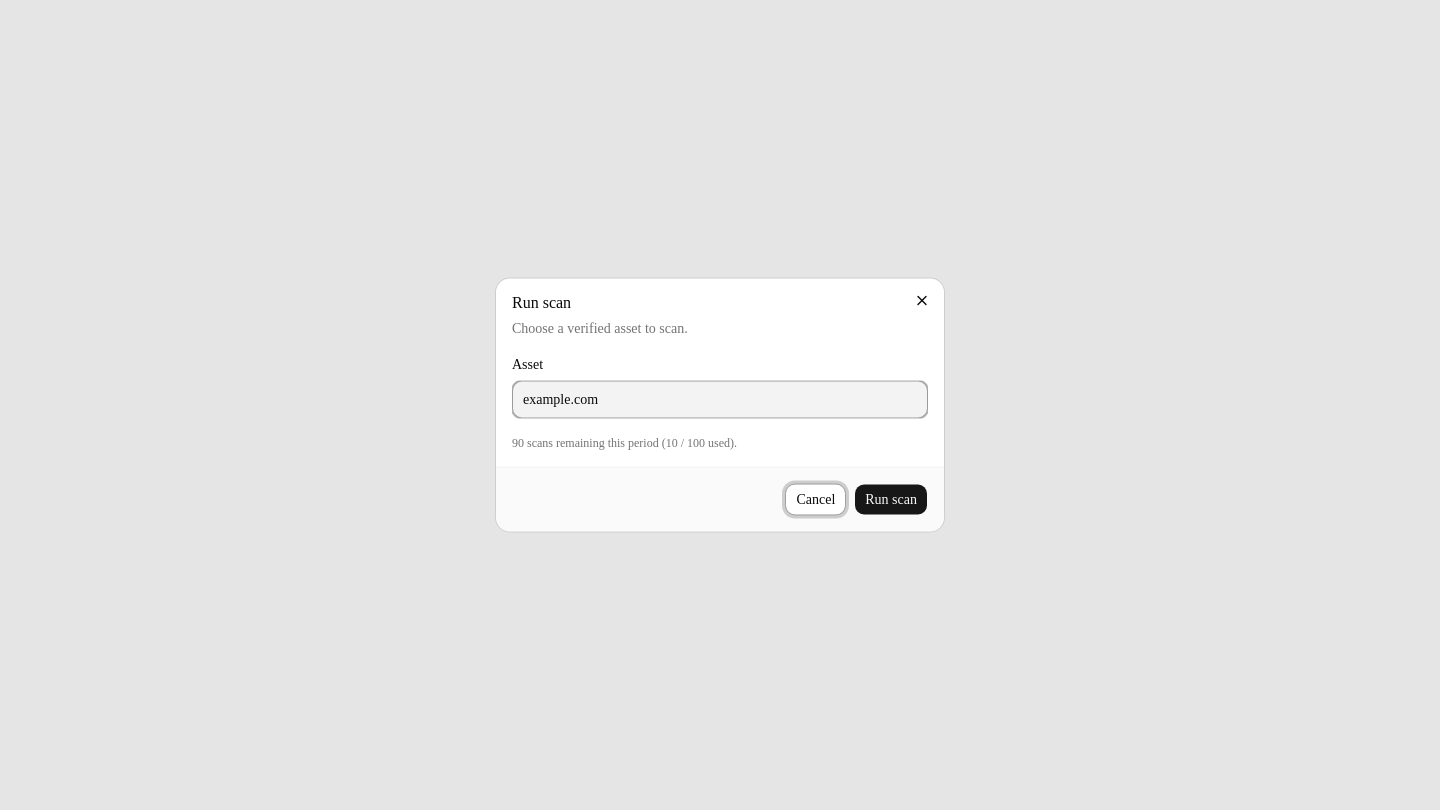
Test: RunScanDialog › a failed scan creation (e.g. quota race) is surfaced inline, not as a raw exception
Click the button "Run scan" at (891, 500), box [854, 484, 928, 516]
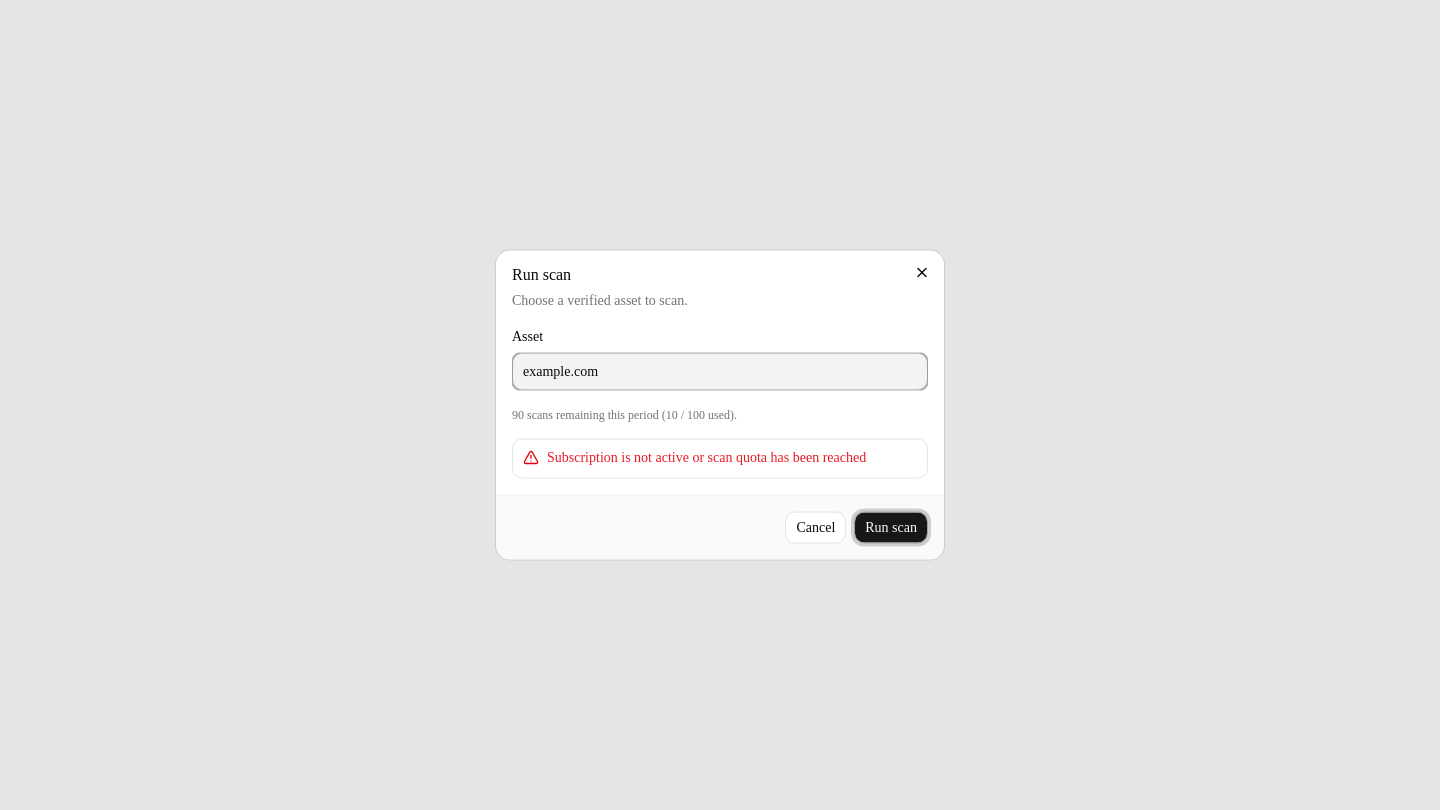
Expected: the text "Subscription is not active or scan quota has been reached" is shown, [547, 448, 917, 468]
